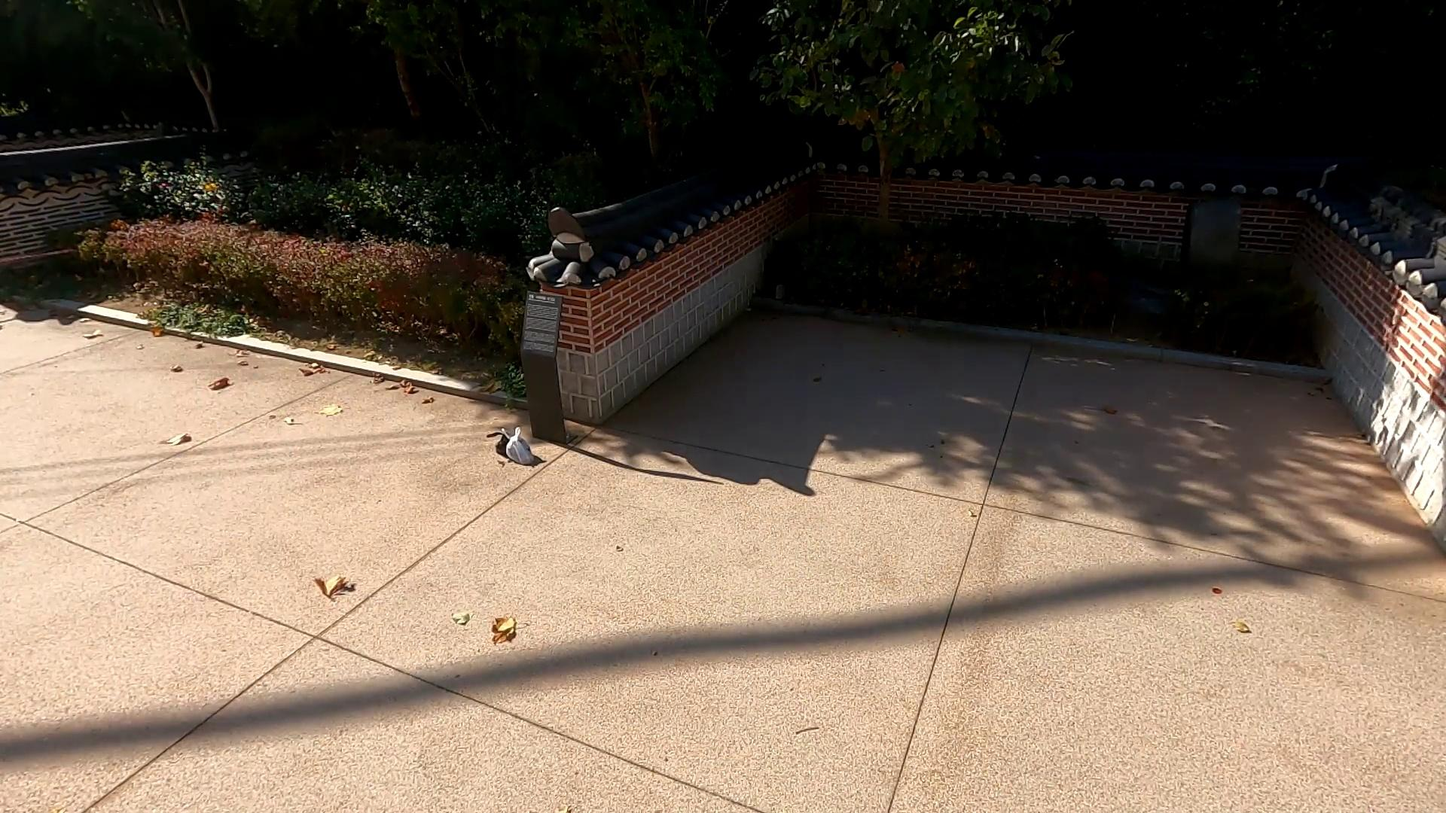trash: (502, 426, 535, 465), (486, 430, 519, 459)
